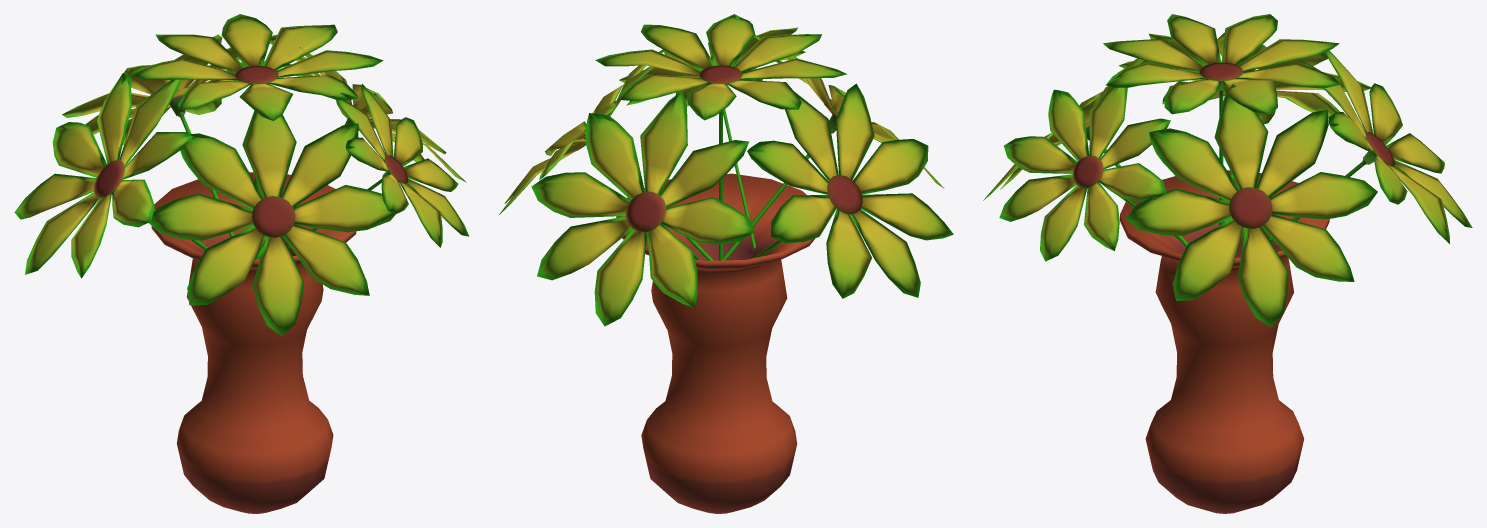
The model's file is flower Vase.fbx.
3 renders of one model, left to right at view 1: azimuth 30°, elevation 25°; view 2: azimuth 150°, elevation 25°; view 3: azimuth 270°, elevation 25°, orthographic.
Parts seen in each view (by area): view 1: flower.001, vase, flower.003, flower, flower.005, flower.002, flower.004; view 2: vase, flower.002, flower.003, flower, flower.004, flower.001, flower.005; view 3: vase, flower.004, flower.005, flower, flower.002, flower.003, flower.001.
Boxes of the visible parts, bbox=[...] form: flower.001: bbox=[148, 110, 395, 335]; vase: bbox=[151, 172, 356, 513]; flower.003: bbox=[14, 73, 207, 278]; flower: bbox=[130, 14, 383, 259]; flower.005: bbox=[288, 83, 469, 249]; flower.002: bbox=[62, 34, 277, 236]; flower.004: bbox=[259, 40, 466, 257]; vase: bbox=[616, 173, 815, 513]; flower.002: bbox=[531, 91, 754, 326]; flower.003: bbox=[747, 83, 953, 298]; flower: bbox=[595, 14, 846, 260]; flower.004: bbox=[499, 49, 713, 260]; flower.001: bbox=[723, 35, 944, 260]; flower.005: bbox=[619, 27, 805, 248]; vase: bbox=[1120, 170, 1329, 513]; flower.004: bbox=[1126, 84, 1377, 326]; flower.005: bbox=[999, 87, 1188, 261]; flower: bbox=[1103, 14, 1339, 225]; flower.002: bbox=[1269, 50, 1472, 243]; flower.003: bbox=[1119, 32, 1370, 222]; flower.001: bbox=[983, 39, 1187, 247].
Bounding box in the file's own units: 536 × 560 × 554.
